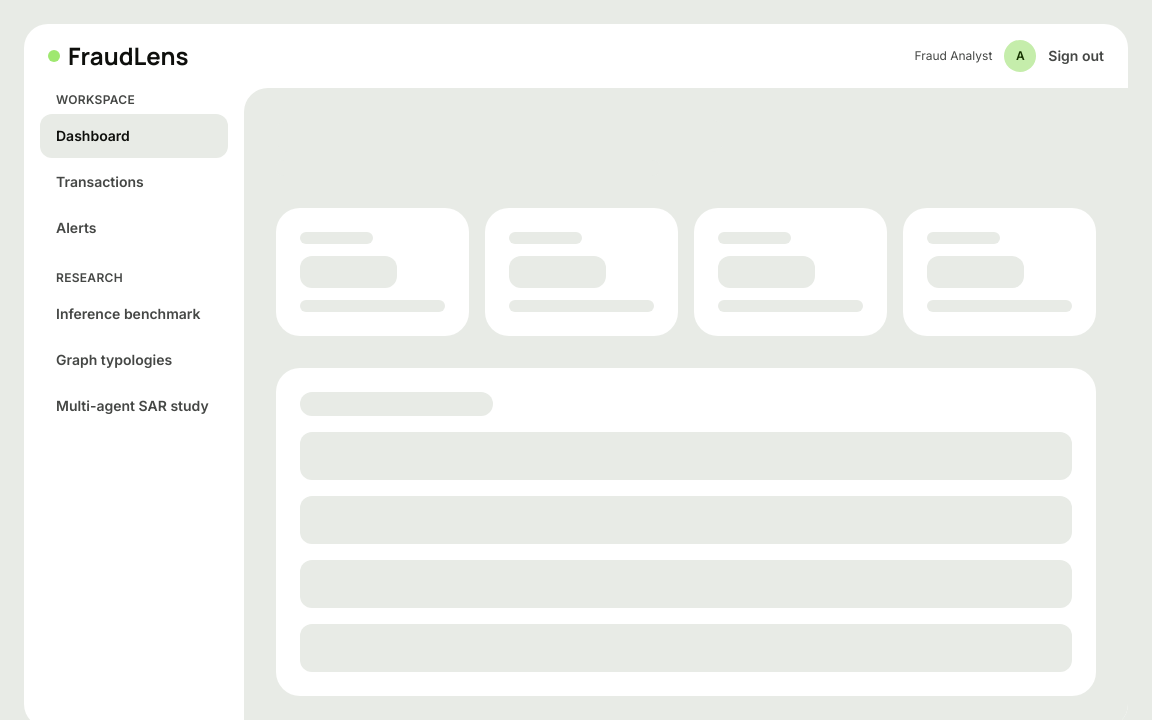
App gate › swaps the shell for the login screen after signing out
The width and height of the screenshot is (1152, 720).
Click the button "Sign out" at coordinates (1076, 56), box [1048,46,1104,66]
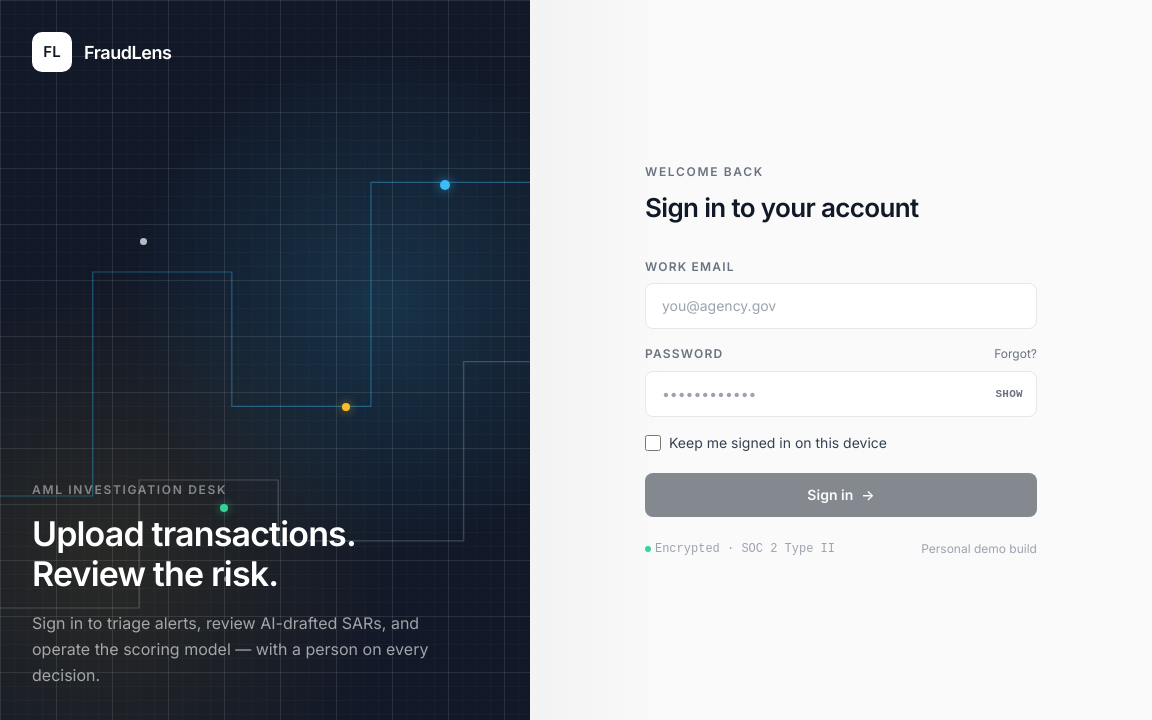
Expected: the heading "Sign in to your account" is shown, [645,192,919,222]
Expected: the text "Workspace" is gone
